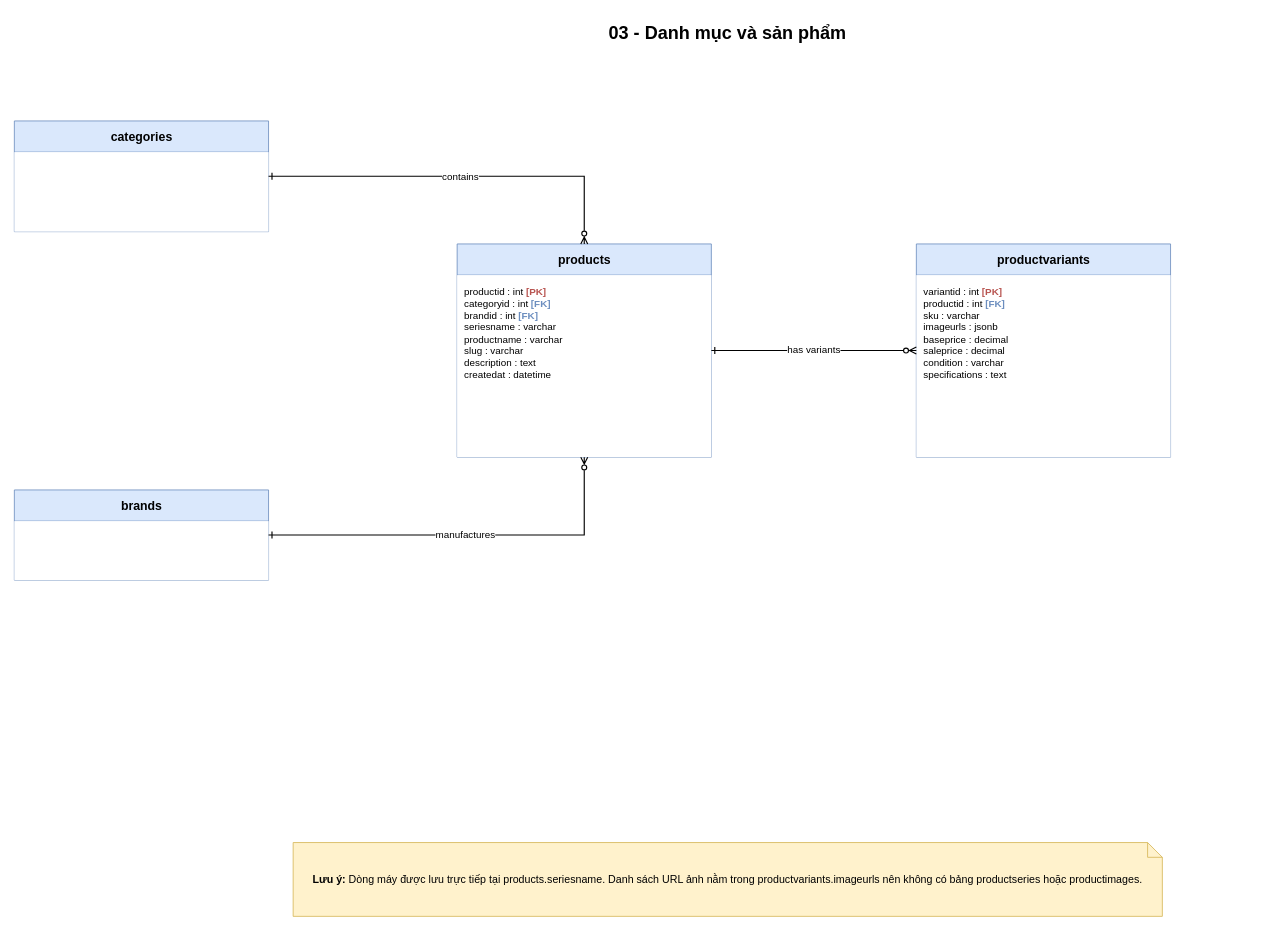
This 1275x931 diagram has some shape labels left out. The centre of each missing label's shape, as x and y in pixels:
brandid : int [PK] brandname : varchar: pixel 141 550
categoryid : int [PK] categoryname : varchar description : text: pixel 141 191
